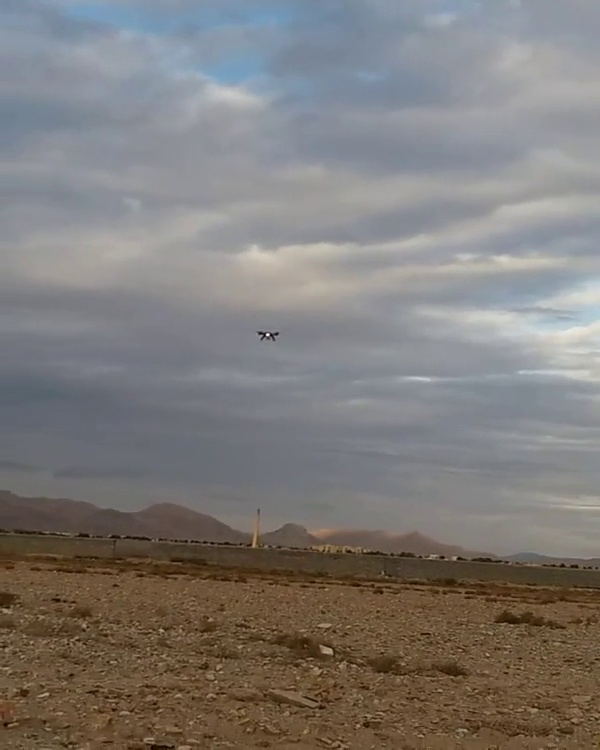drone_other: (254, 324, 282, 345)
